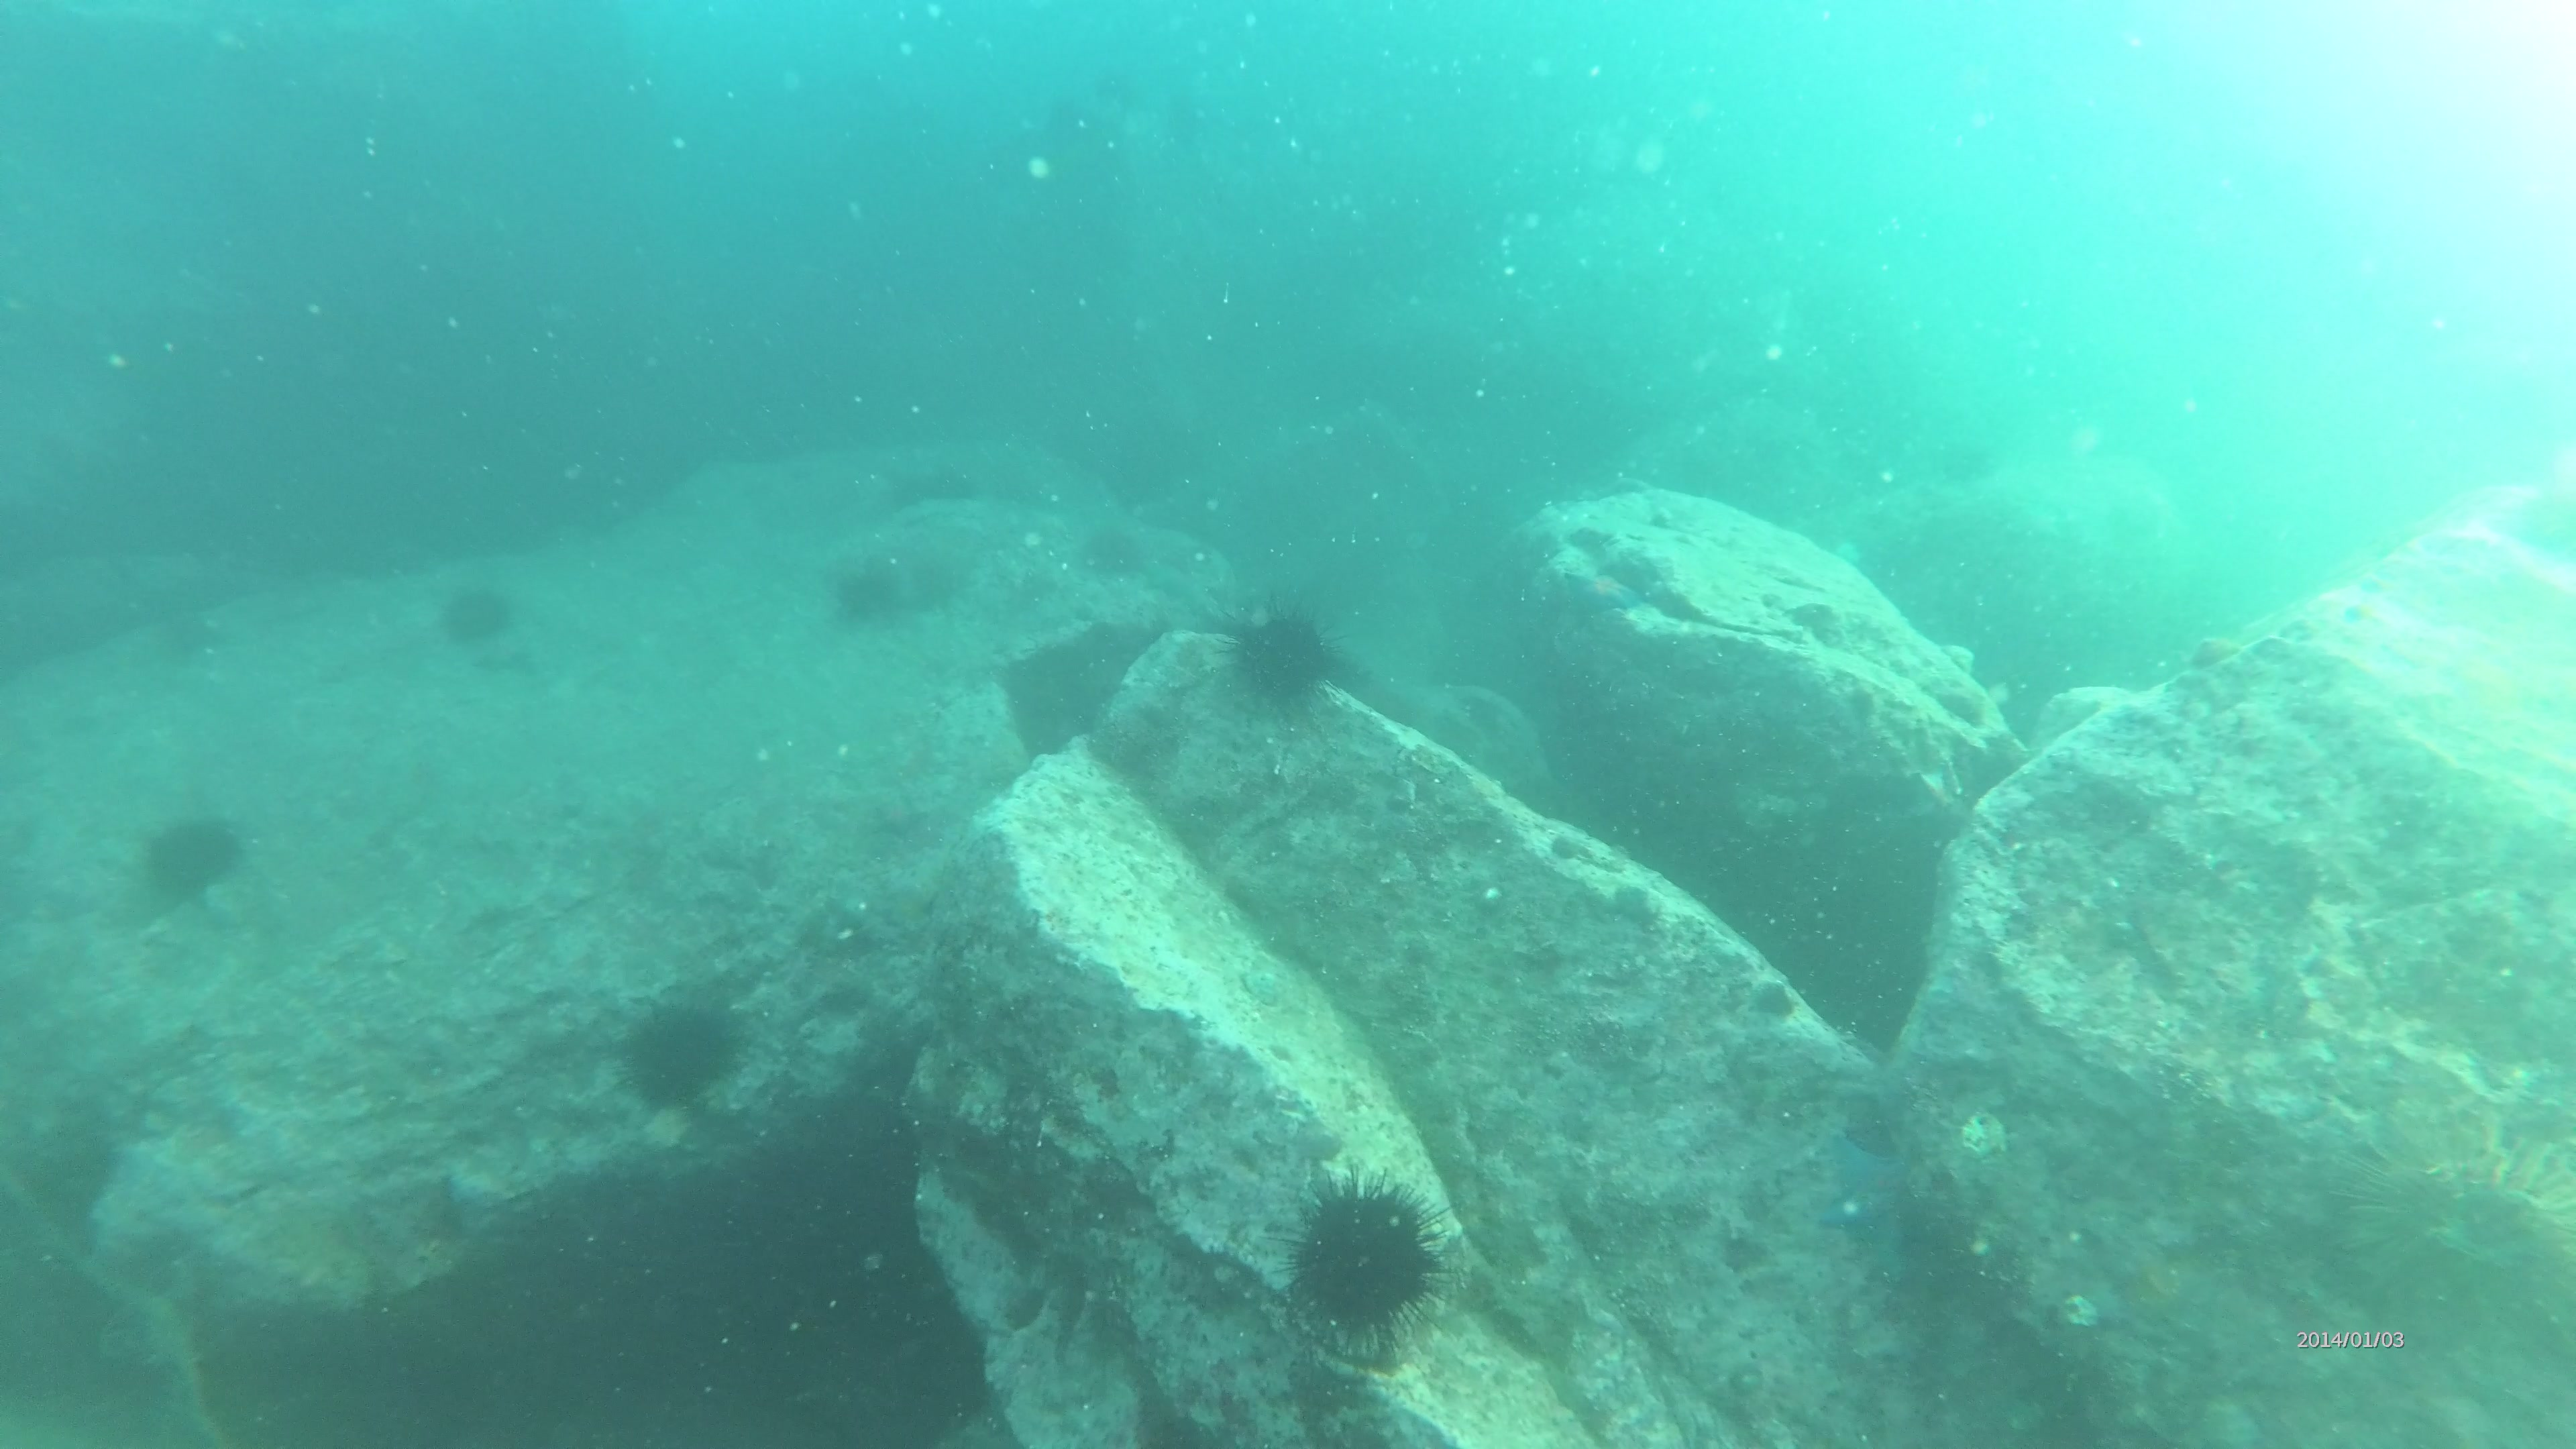echinus: (1263, 1157, 1465, 1353), (1203, 580, 1352, 736), (612, 1001, 752, 1123), (126, 803, 255, 911), (430, 570, 527, 648)
